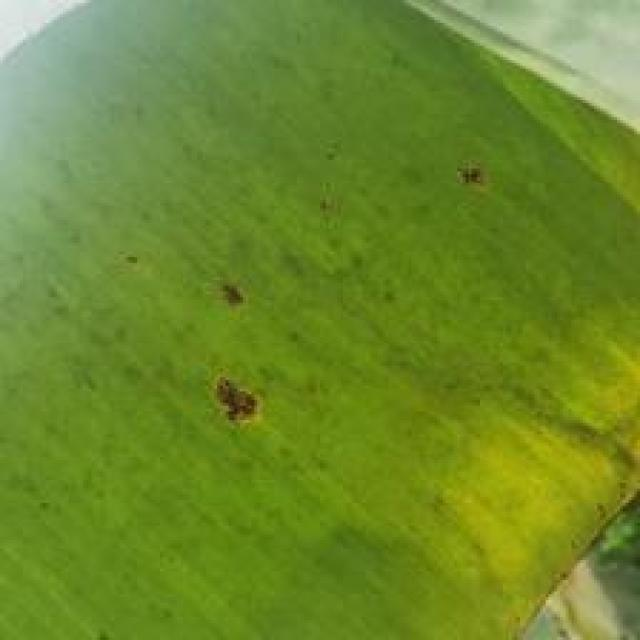Downey_mildrew: (186, 262, 328, 494), (505, 368, 640, 505), (310, 136, 368, 232), (449, 152, 504, 201), (123, 230, 146, 287)
